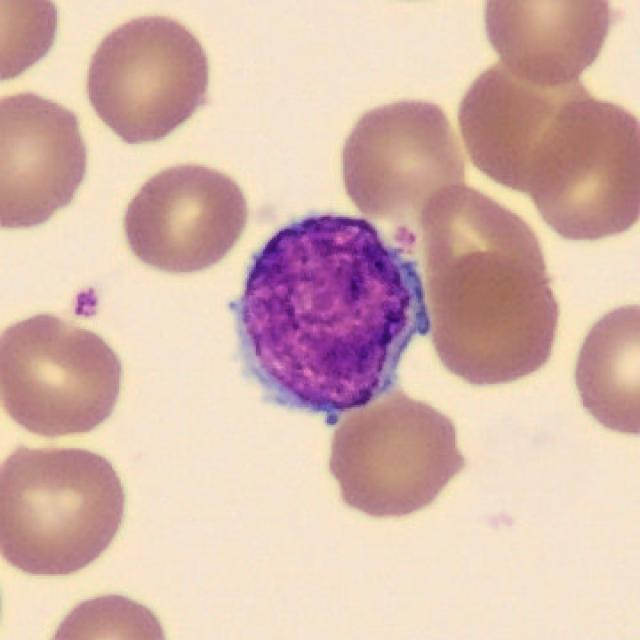Linfocito: (236, 215, 428, 421)
